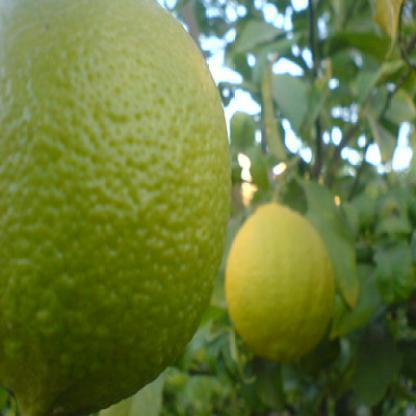lemon: (0, 0, 233, 416), (224, 202, 336, 361)
